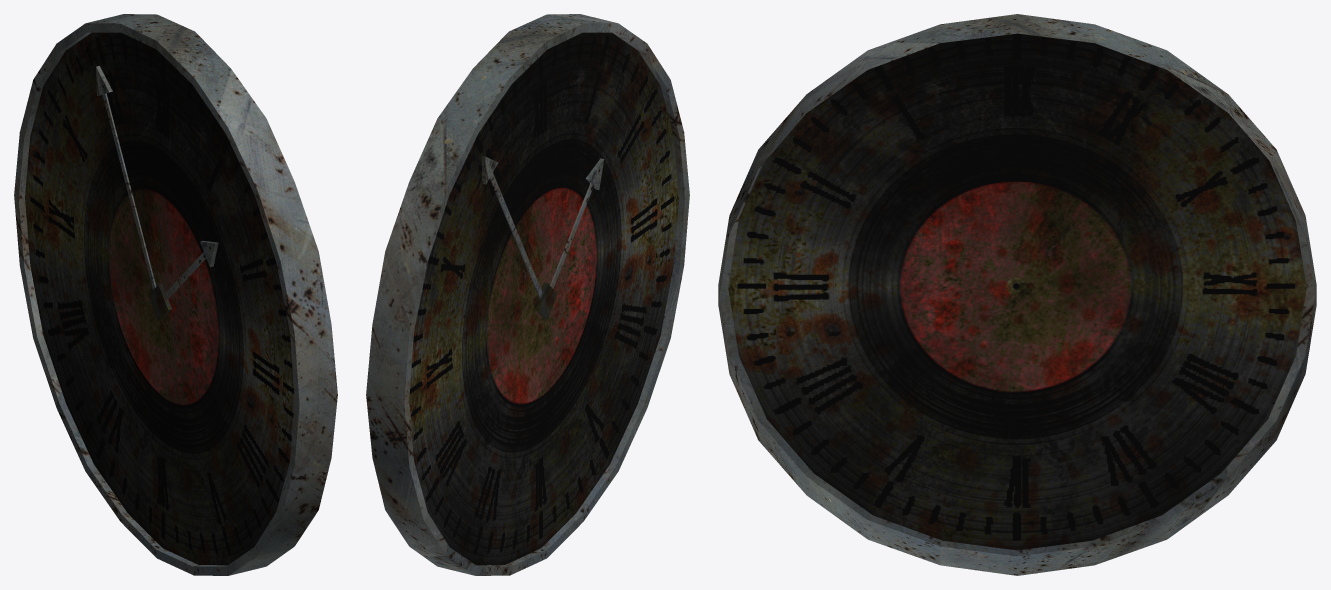
The model's file is clock.FBX.
3 renders of one model, left to right at view 1: azimuth 30°, elevation 25°; view 2: azimuth 150°, elevation 25°; view 3: azimuth 270°, elevation 25°, orthographic. The views are drawn at different scales.
Parts seen in each view (by area): view 1: clock; view 2: clock; view 3: clock.
Boxes of the visible parts, bbox=[...] form: clock: bbox=[14, 14, 337, 575]; clock: bbox=[366, 14, 689, 575]; clock: bbox=[718, 14, 1316, 575].
Size of the model in its own units: 0.0309 by 0.3977 by 0.3977.
